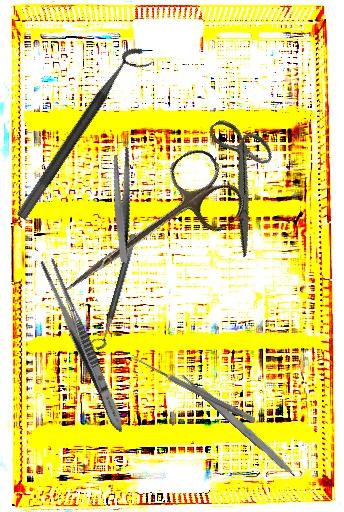Dressing Forceps: (36, 254, 130, 436), (90, 145, 154, 263)
Fixation Ring: (15, 41, 156, 231), (87, 230, 138, 352)
Iris Scissors: (44, 141, 252, 326), (169, 105, 314, 258)
Scalpel Handle: (179, 369, 299, 479)
Surgical Spoon: (129, 354, 257, 423)
